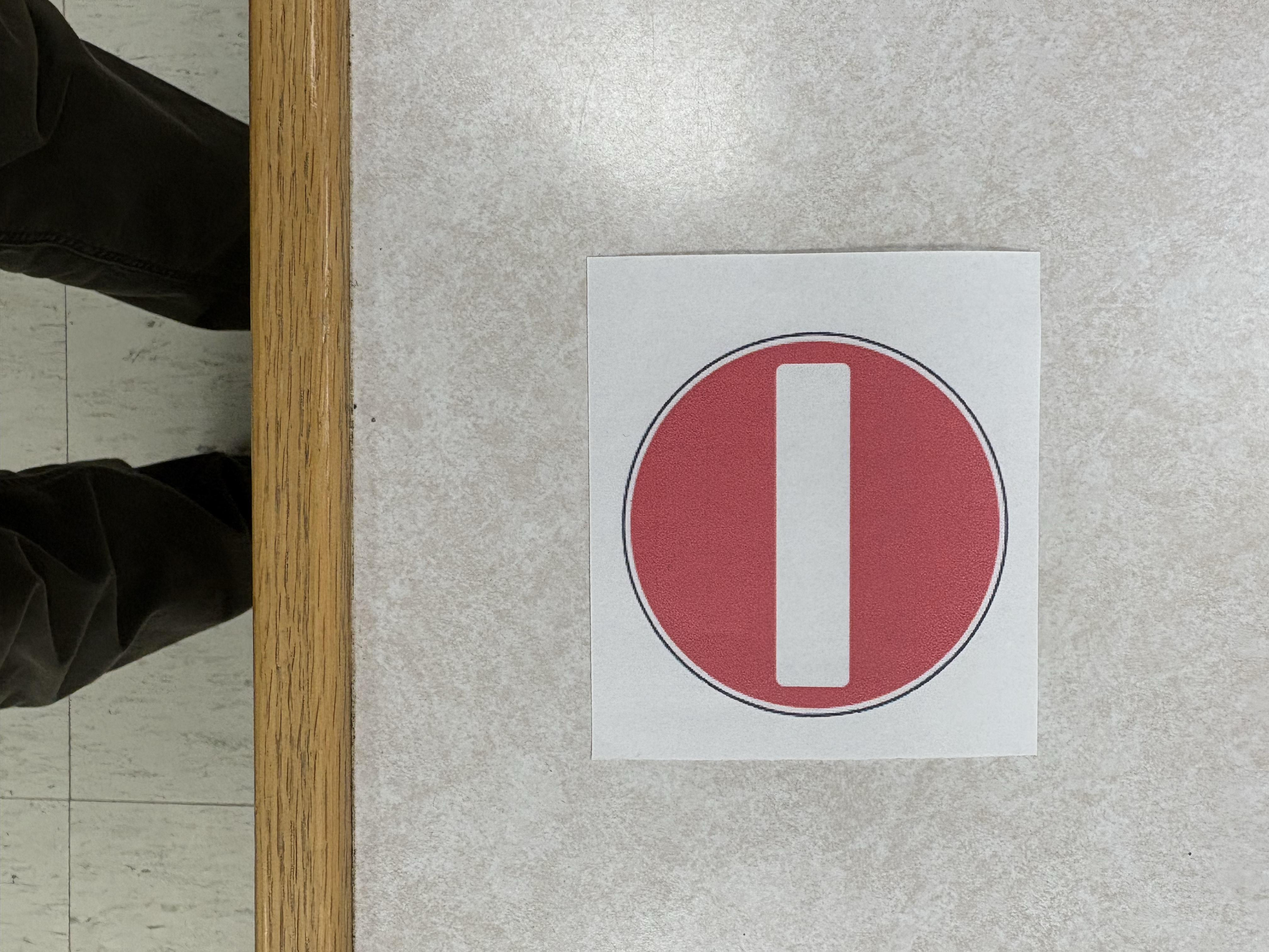No Entry: (585, 254, 1038, 759)
